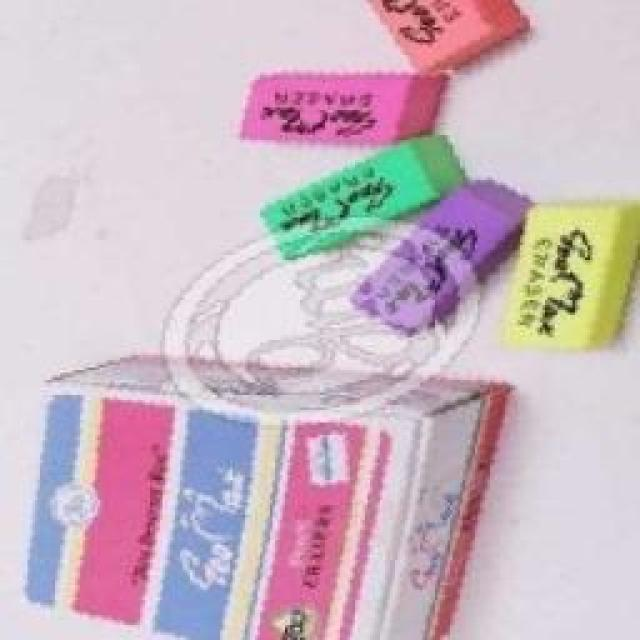Silgi: (501, 201, 640, 349)
